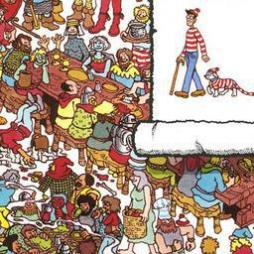wally: (166, 4, 212, 102)
